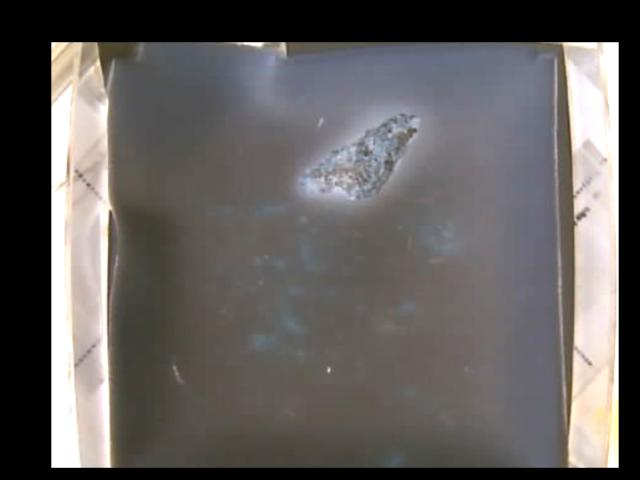Brisk: (298, 106, 424, 199)
